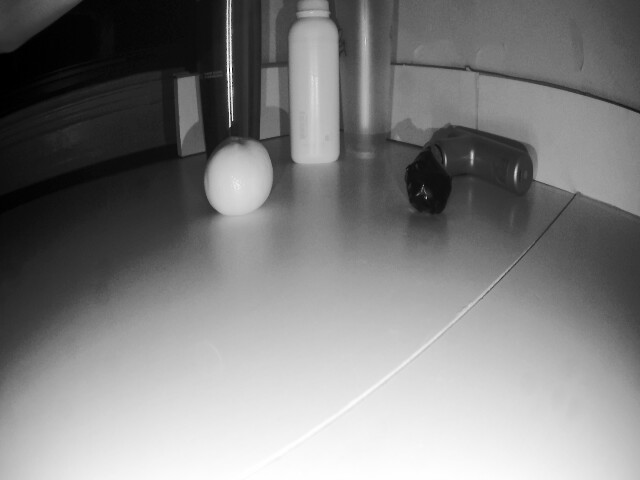silver: (403, 158, 454, 208)
